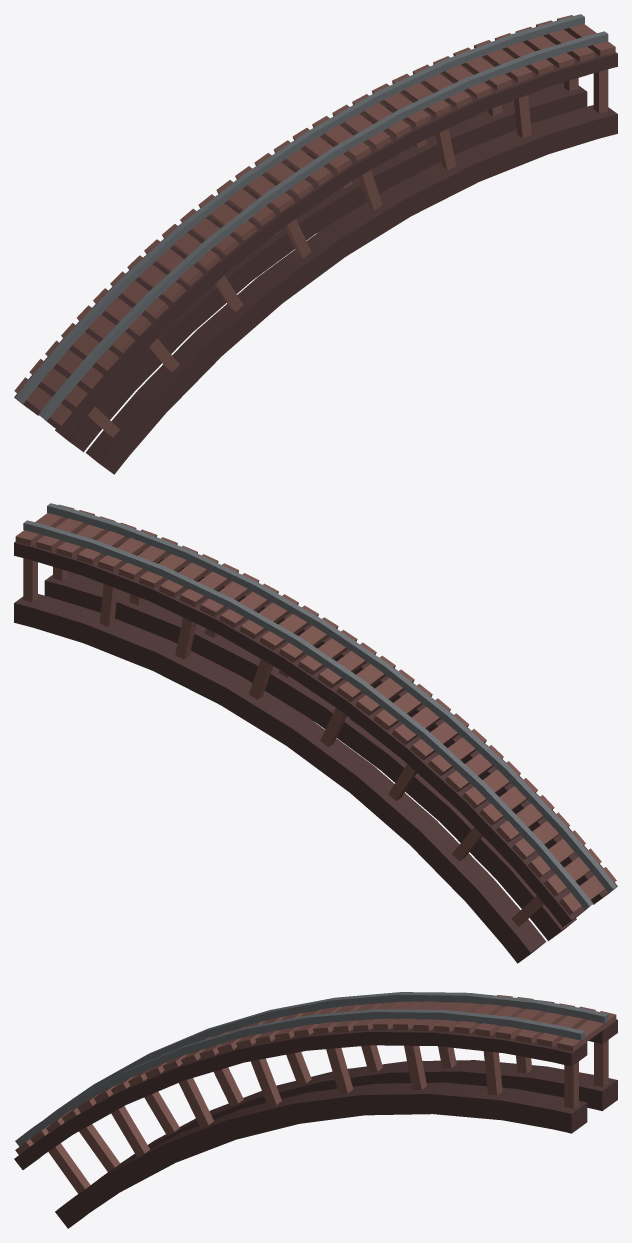
Rendered from DarkRoseWoodMechGentle0_85GaugeFall1.fbx.
3 renders of one model, top to bottom at view 1: azimuth 30°, elevation 25°; view 2: azimuth 150°, elevation 25°; view 3: azimuth 330°, elevation 25°, orthographic.
Parts seen in each view (by area): view 1: DarkRoseWoodMechGentle0_85GaugeFall1; view 2: DarkRoseWoodMechGentle0_85GaugeFall1; view 3: DarkRoseWoodMechGentle0_85GaugeFall1.
Boxes of the visible parts, <box> form: DarkRoseWoodMechGentle0_85GaugeFall1: <box>14,14,617,474</box>; DarkRoseWoodMechGentle0_85GaugeFall1: <box>14,503,617,963</box>; DarkRoseWoodMechGentle0_85GaugeFall1: <box>14,992,617,1228</box>.
Size of the model in its own units: 1413 by 742 by 200.
